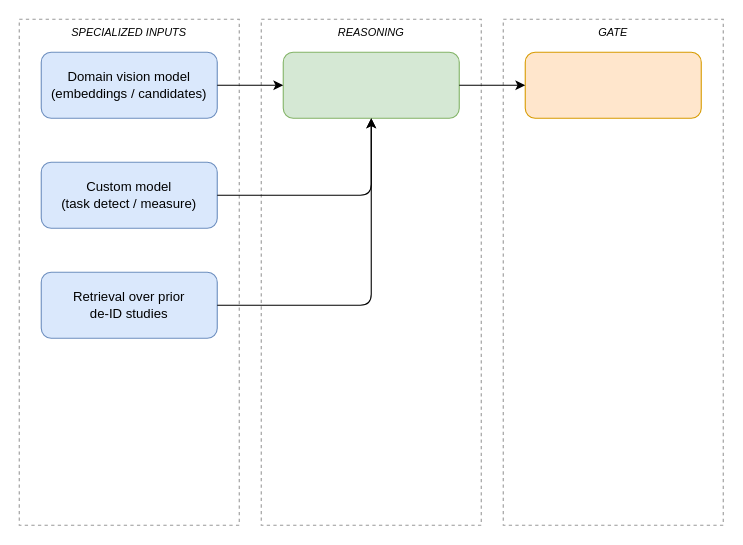
Image size: 743x545. Some labels were removed from this diagram. Here are the shapes that lost their labels. From the top down, the centre of each, then its label:
At point 370,84: "VLM: reason, draft, structure".
At point 612,84: "Eval / guardrails".
